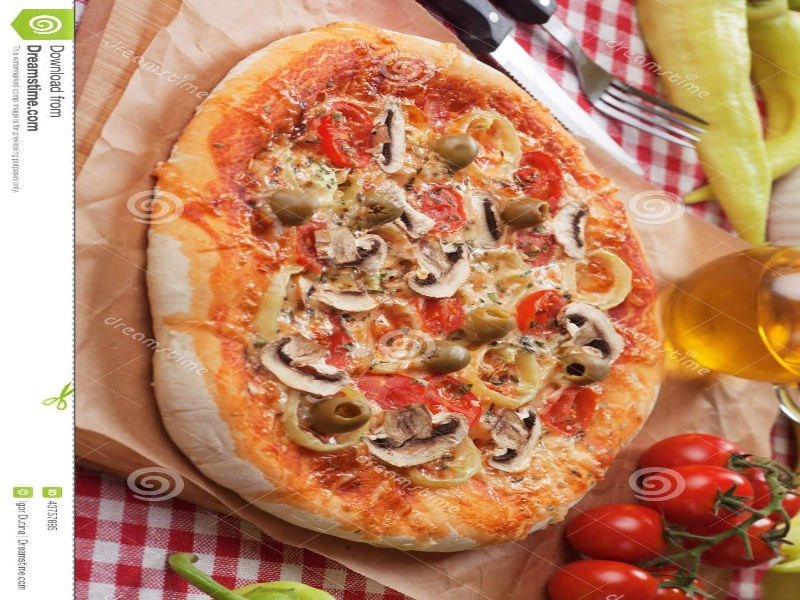champignon: (360, 394, 471, 480), (256, 332, 352, 411), (550, 296, 630, 370), (483, 399, 552, 478), (321, 224, 395, 285), (404, 244, 476, 303), (369, 101, 417, 180), (552, 198, 603, 265)
olive: (306, 387, 376, 438), (426, 124, 484, 176), (500, 191, 556, 244), (267, 183, 326, 231), (463, 305, 523, 346), (355, 194, 416, 234), (554, 349, 613, 389), (427, 335, 472, 377)
